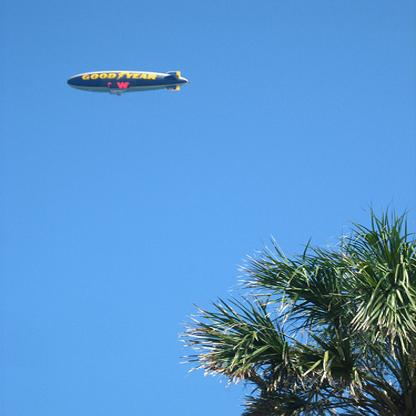Airship: (64, 66, 192, 106)
